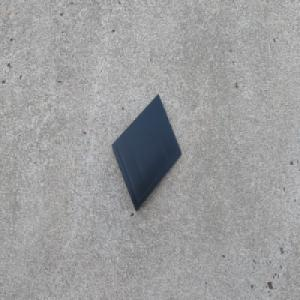PlasticPart: (110, 92, 182, 213)
